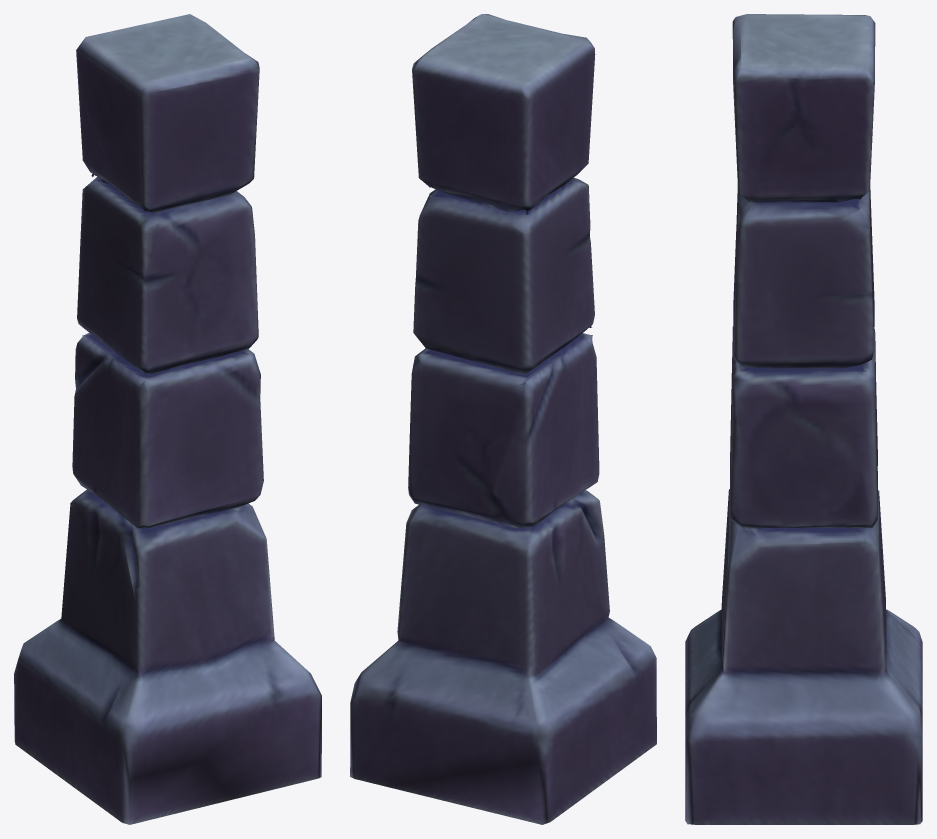
Rendered from Pillar.FBX.
3 renders of one model, left to right at view 1: azimuth 30°, elevation 25°; view 2: azimuth 150°, elevation 25°; view 3: azimuth 270°, elevation 25°, orthographic. The views are drawn at different scales.
Parts seen in each view (by area): view 1: Pillar_01; view 2: Pillar_01; view 3: Pillar_01.
Boxes of the visible parts, left/top/right/bottom form: Pillar_01: left=14, top=14, right=321, bottom=824; Pillar_01: left=350, top=14, right=656, bottom=824; Pillar_01: left=685, top=14, right=922, bottom=824.
Size of the model in its own units: 1.36 by 4.64 by 1.36.
Materials: 1 (1 with a texture image).
